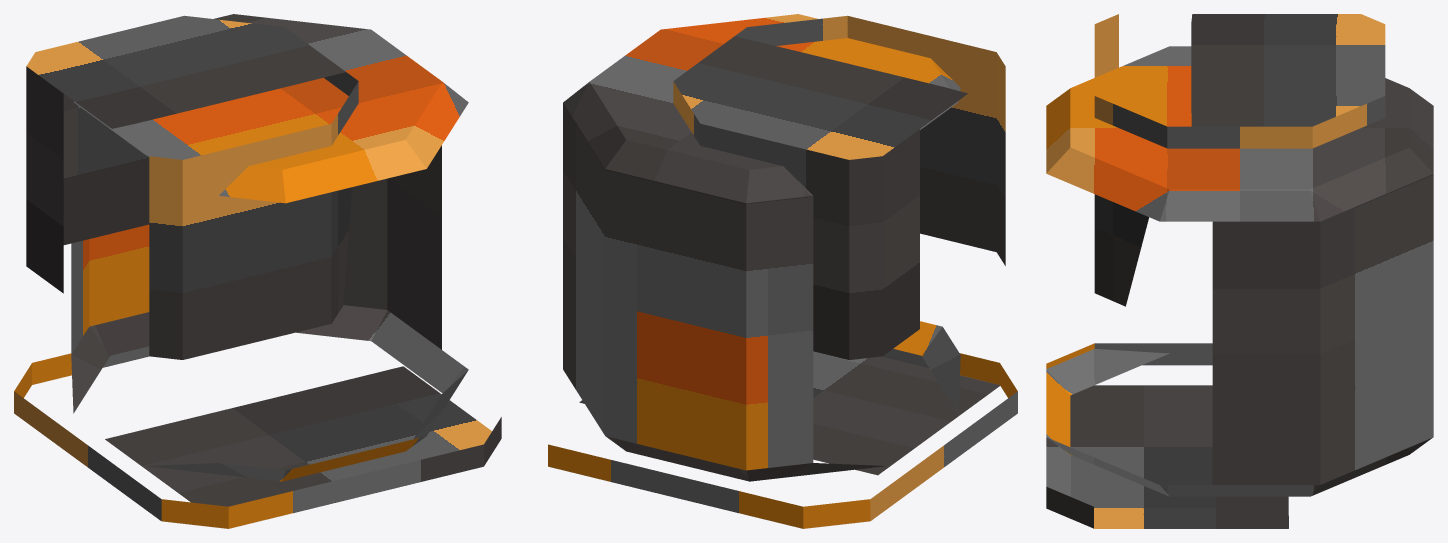
Rendered from air_compressor_active.obj.
The picture shows the model from 3 angles, left to right: view 1: azimuth 30°, elevation 25°; view 2: azimuth 150°, elevation 25°; view 3: azimuth 270°, elevation 25°; orthographic projection.
Visible parts, largest first — view 1: Group_002, Group_001, Group_003; view 2: Group_001, Group_002, Group_003; view 3: Group_001, Group_002, Group_003.
Boxes of the visible parts, bbox=[...] form: Group_002: bbox=[26, 15, 358, 359]; Group_001: bbox=[71, 14, 468, 481]; Group_003: bbox=[14, 346, 501, 528]; Group_001: bbox=[563, 14, 960, 481]; Group_002: bbox=[673, 15, 1005, 359]; Group_003: bbox=[548, 349, 1017, 528]; Group_001: bbox=[1046, 46, 1433, 496]; Group_002: bbox=[1094, 14, 1385, 306]; Group_003: bbox=[1046, 343, 1288, 528].
Bounding box in the file's own units: 1 × 1 × 1.
